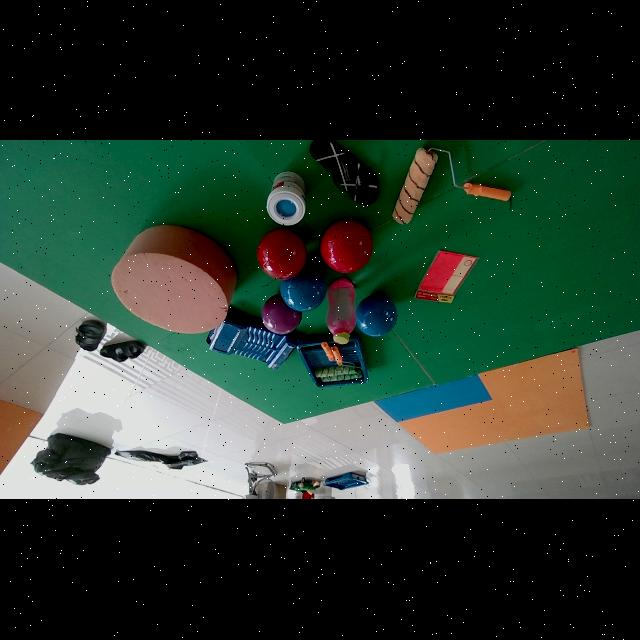B: (280, 269, 327, 313), (356, 295, 398, 337)
P: (261, 295, 302, 335)
R: (321, 220, 373, 274), (256, 229, 307, 281)
